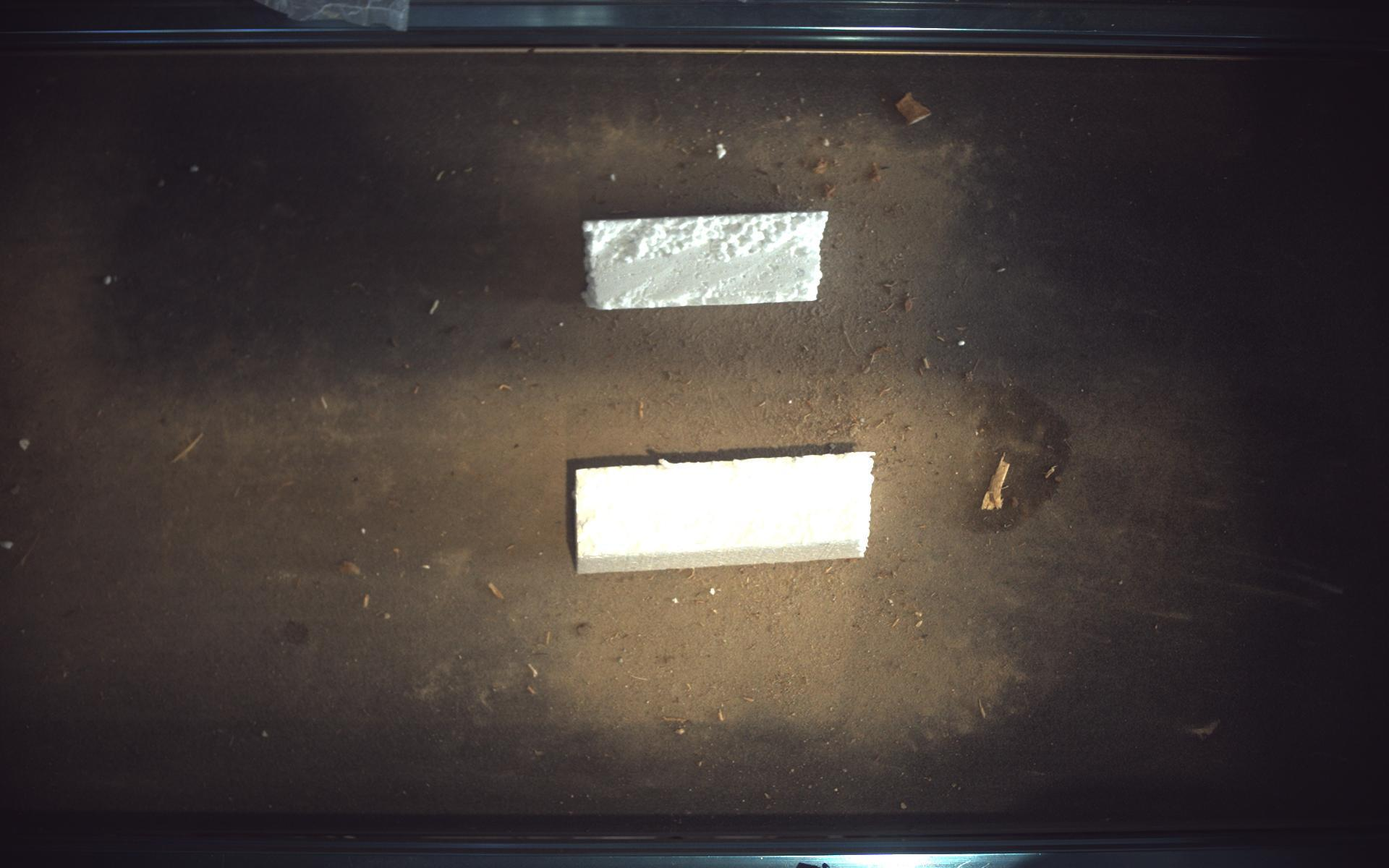foam: (575, 451, 875, 574), (583, 212, 830, 310)
